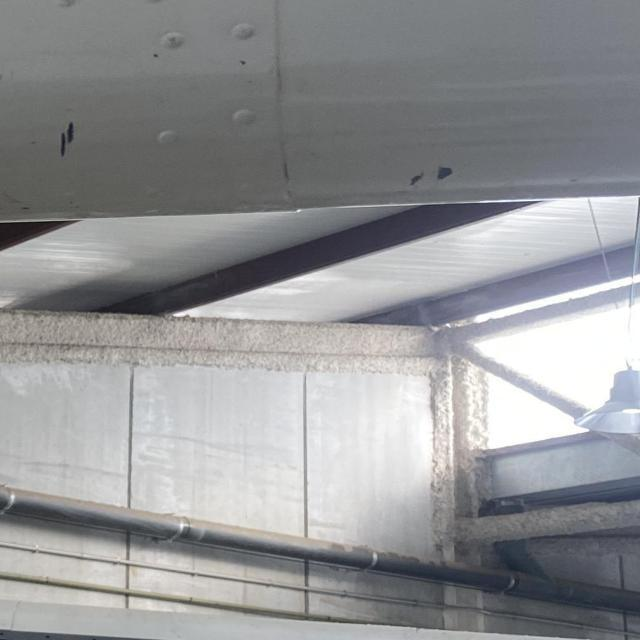Paint-off: (59, 121, 76, 156), (438, 166, 456, 180), (412, 174, 422, 185)
